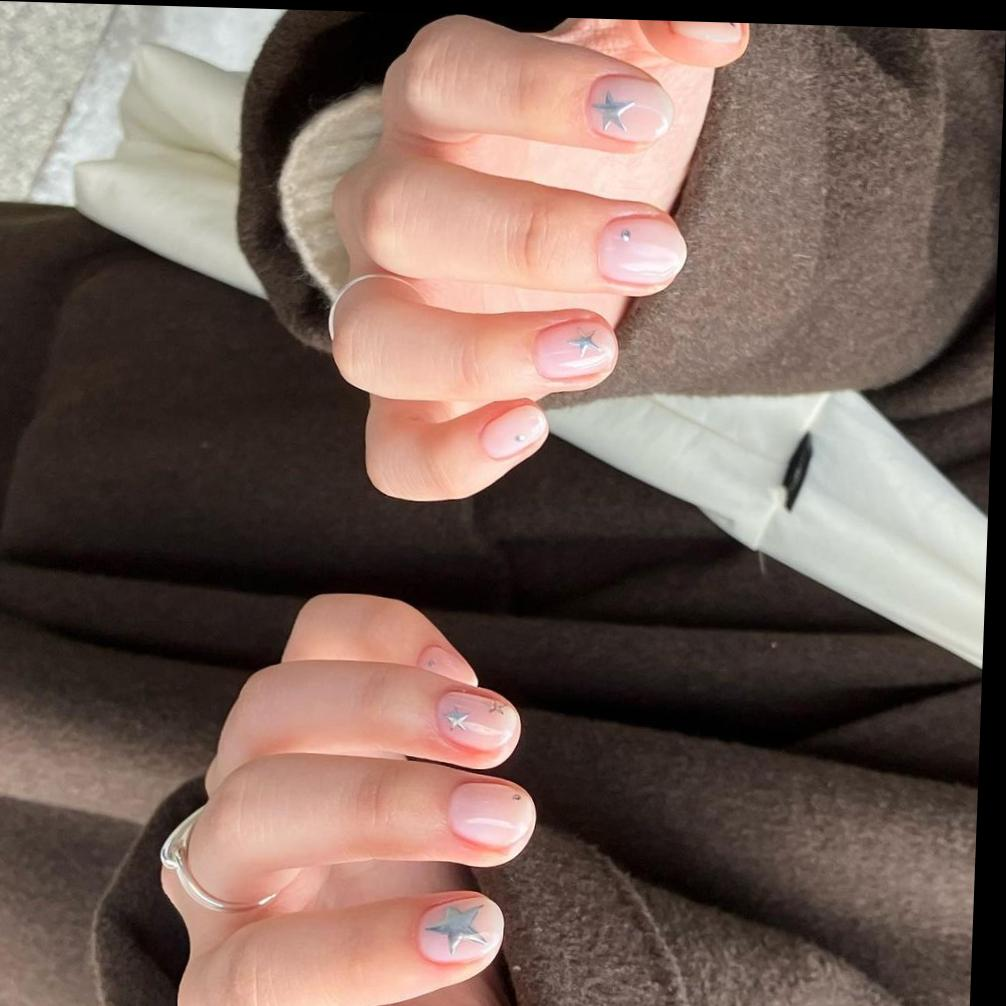nail: (415, 890, 506, 968), (596, 211, 690, 286), (586, 72, 677, 143), (447, 778, 536, 850), (533, 315, 620, 382), (435, 688, 518, 752), (480, 402, 551, 461), (417, 643, 482, 685), (666, 20, 744, 43)
